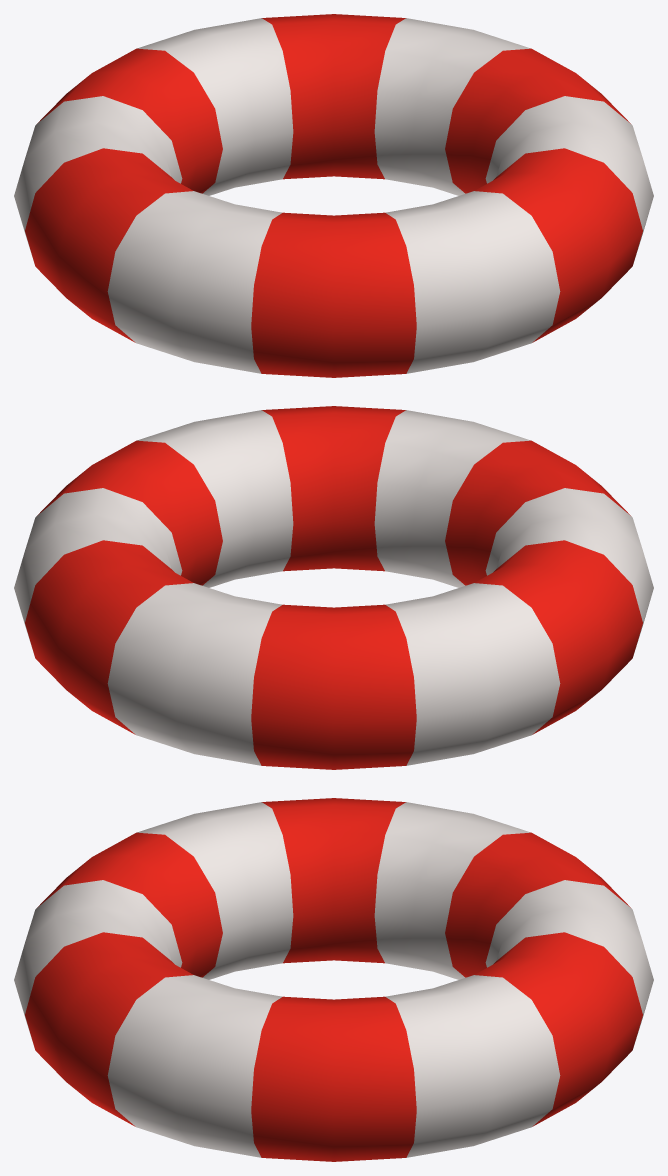
Rendered from floaty_A.fbx.
3 renders of one model, top to bottom at view 1: azimuth 30°, elevation 25°; view 2: azimuth 150°, elevation 25°; view 3: azimuth 270°, elevation 25°, orthographic.
Visible parts, largest first — view 1: floaty_A; view 2: floaty_A; view 3: floaty_A.
Part boxes in pixels (<box>): floaty_A: <box>14,14,653,377</box>; floaty_A: <box>14,406,653,769</box>; floaty_A: <box>14,798,653,1161</box>.
Size of the model in its own units: 168 by 42.9 by 168.
